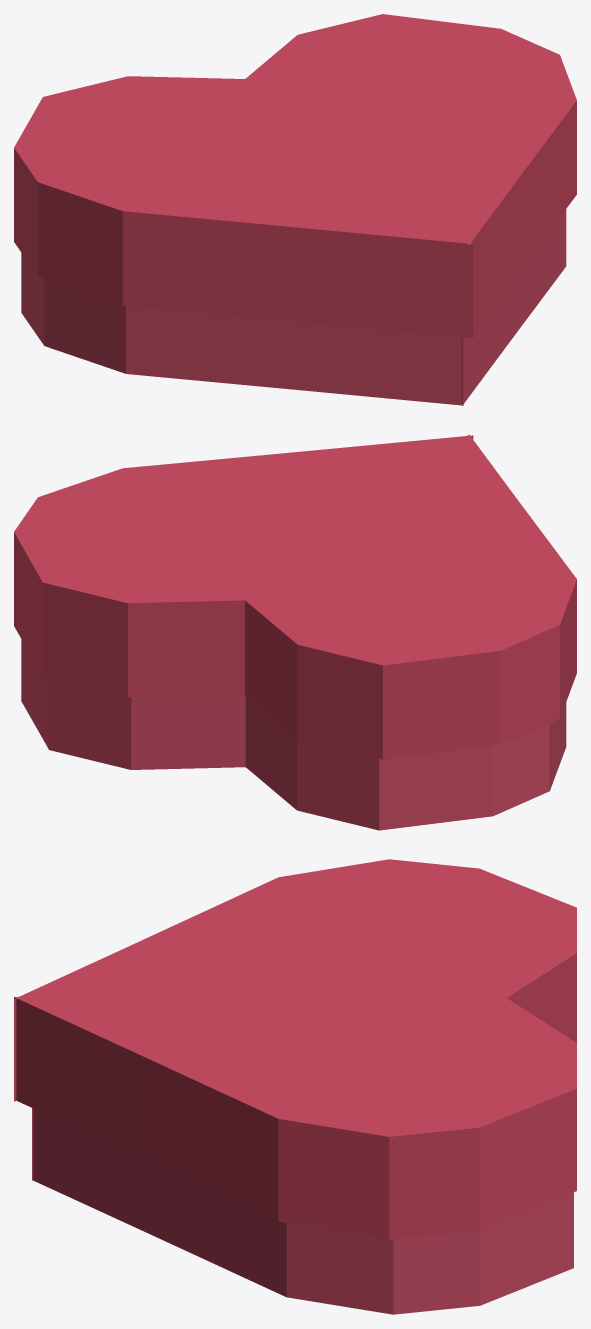
File: chocolate.fbx
The picture shows the model from 3 angles, top to bottom: view 1: azimuth 30°, elevation 25°; view 2: azimuth 150°, elevation 25°; view 3: azimuth 270°, elevation 25°; orthographic projection. The views are drawn at different scales.
Visible parts, largest first — view 1: Plane.001, Plane; view 2: Plane.001, Plane; view 3: Plane.001, Plane.
Part boxes in pixels (<box>): Plane.001: <box>14,14,576,338</box>; Plane: <box>21,209,566,405</box>; Plane.001: <box>14,434,576,759</box>; Plane: <box>21,639,566,830</box>; Plane.001: <box>14,859,576,1239</box>; Plane: <box>32,1108,573,1314</box>.
Size of the model in its own units: 843 by 258 by 723.
